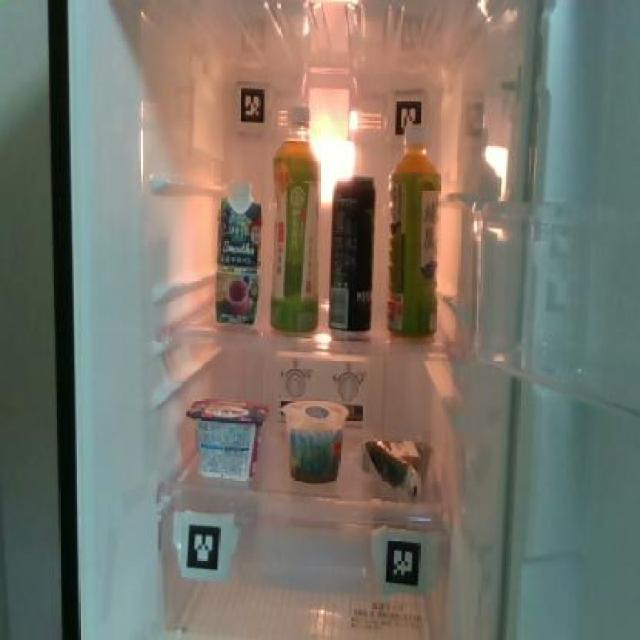energy_drink: (326, 176, 376, 338)
pudding: (282, 398, 350, 484)
rice_ball: (356, 429, 433, 503)
smoothie: (210, 176, 262, 329)
tea_a: (384, 120, 440, 338)
tea_i: (268, 105, 322, 333)
yogurt: (184, 394, 268, 482)
